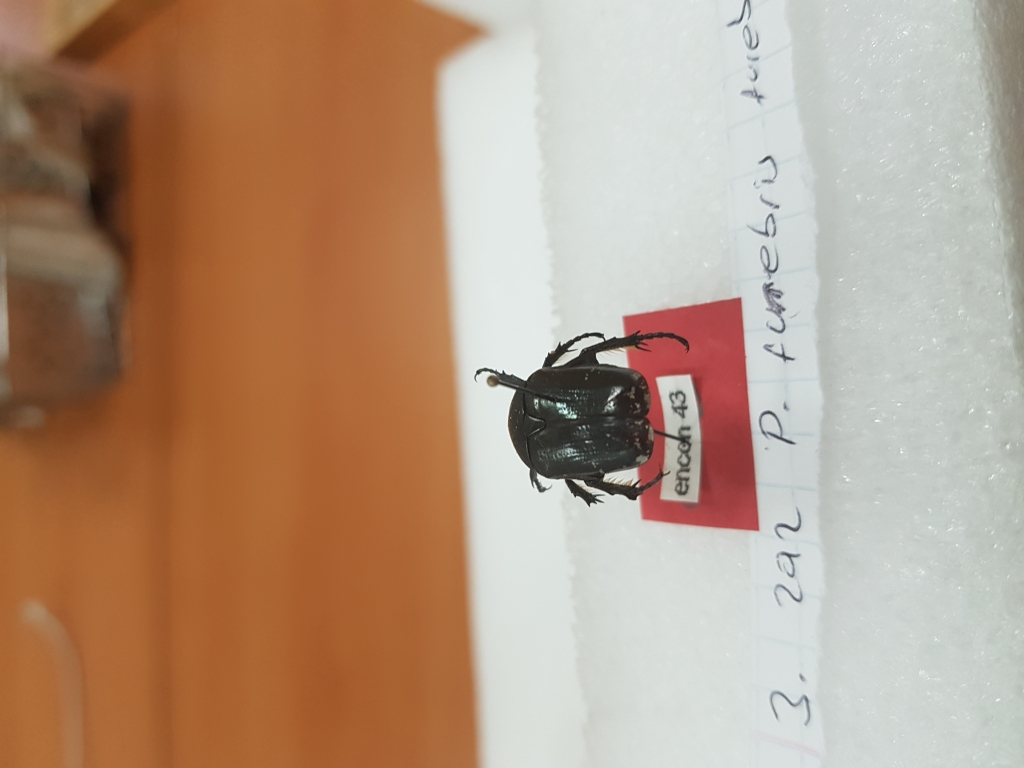Protaetia_funebris_funebris: (462, 311, 716, 517)
